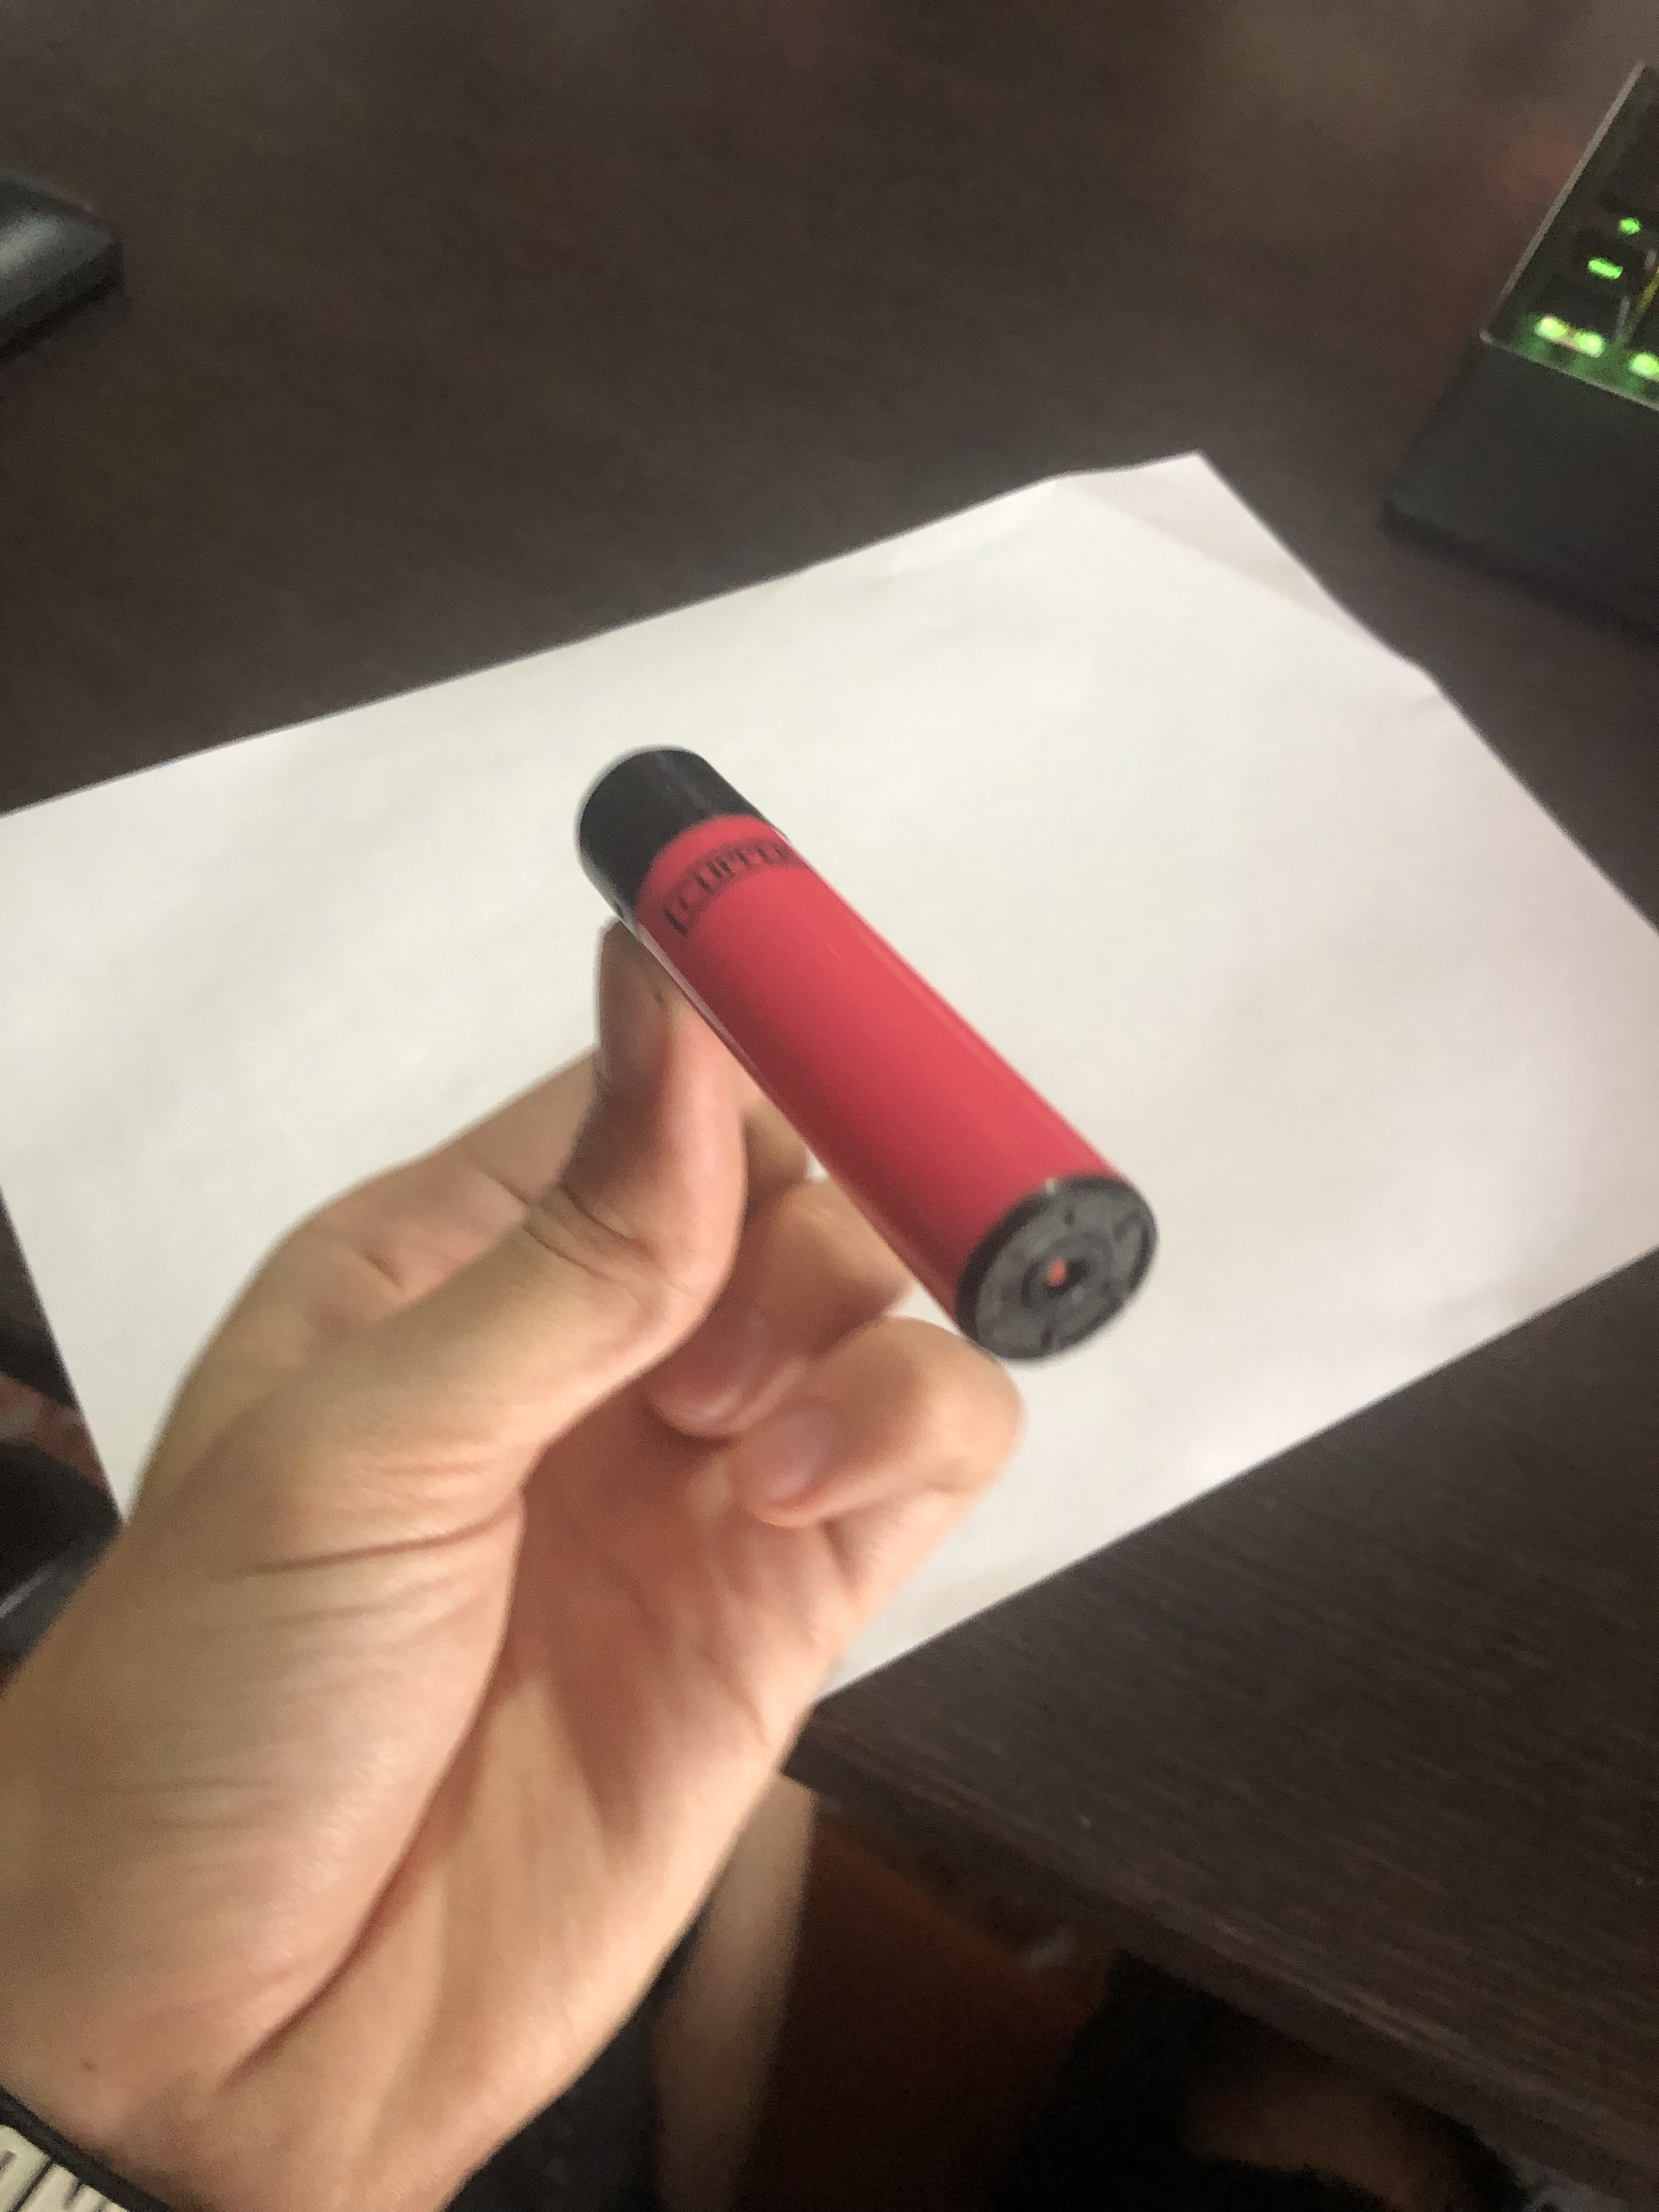Mechero: (558, 725, 1161, 1372)
